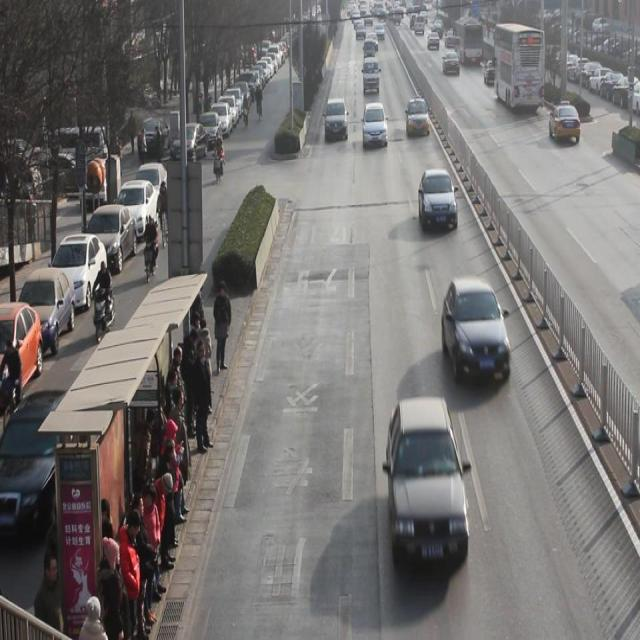car: (387, 399, 470, 569), (442, 276, 511, 386), (418, 168, 458, 234), (549, 104, 580, 145), (362, 102, 388, 147), (326, 98, 348, 144), (405, 98, 430, 138), (484, 59, 502, 88), (442, 50, 460, 76)
truck: (363, 56, 380, 94)
van: (492, 22, 545, 112)
